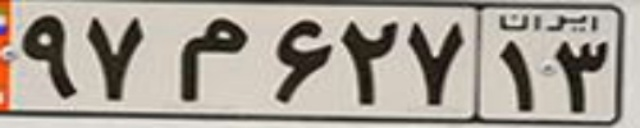1: (498, 38, 534, 111)
2: (340, 17, 397, 104)
3: (555, 39, 608, 114)
6: (273, 17, 332, 104)
7: (85, 15, 146, 101), (408, 20, 468, 106)
9: (22, 14, 76, 98)
mim: (179, 17, 250, 102)
